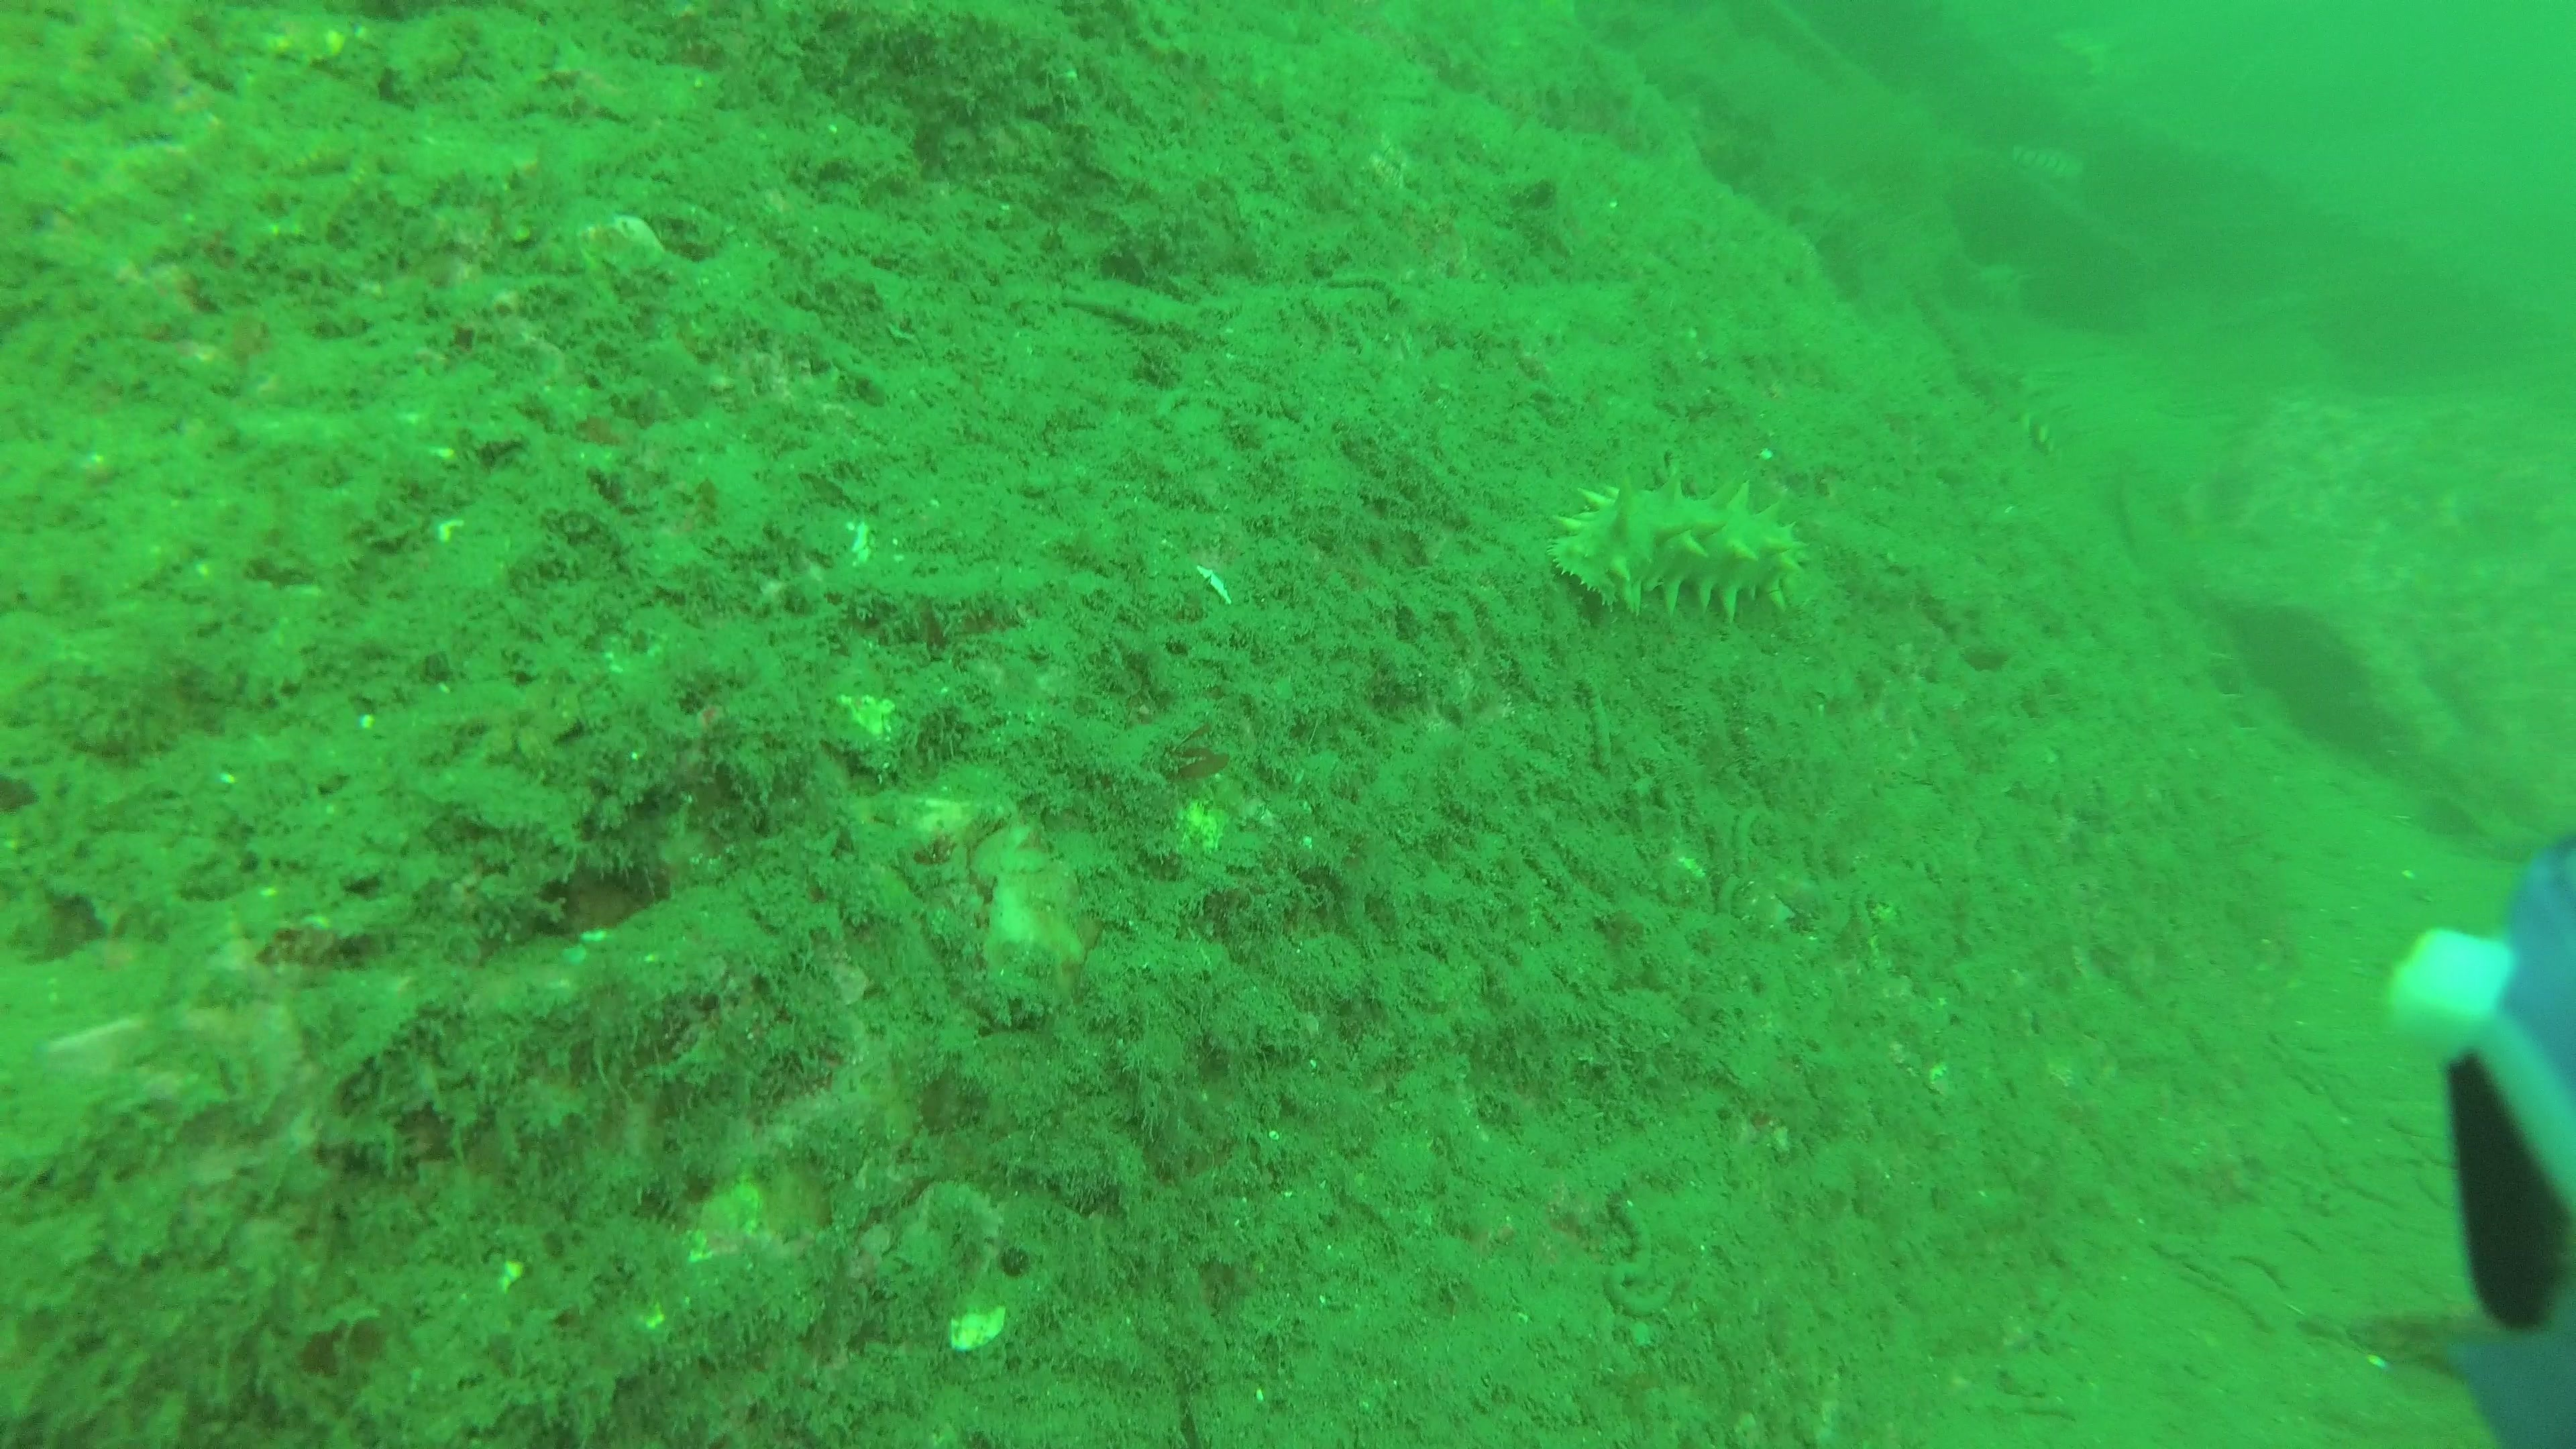holothurian: (1543, 476, 1822, 625)
